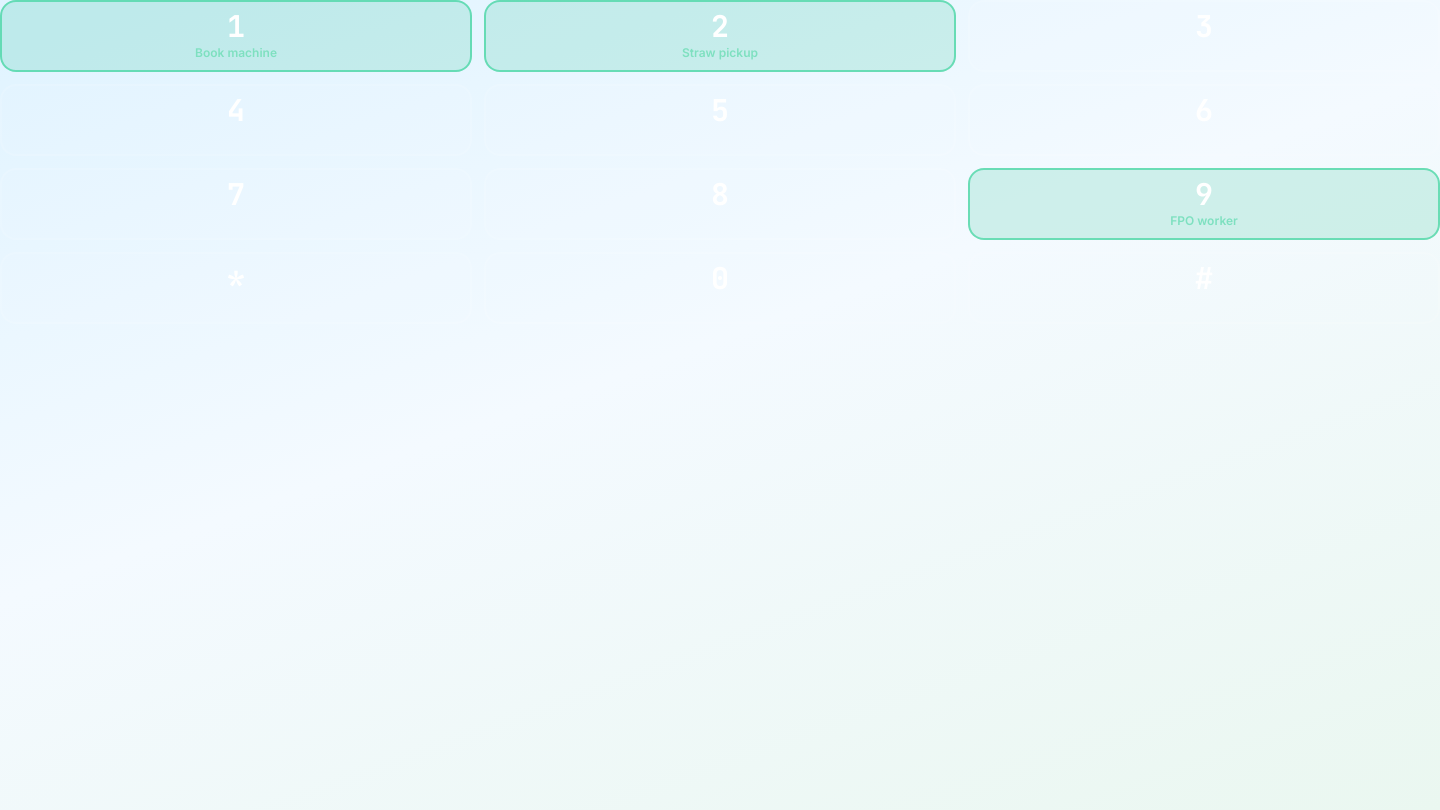
Test case: KeypadPanel flow › press 1 asks for confirmation; nothing is booked until 1 is pressed again
Step 1. Click the button with aria-label "Press 1: Lock Super Seeder" → (236,36), box left=0, top=0, right=472, bottom=72
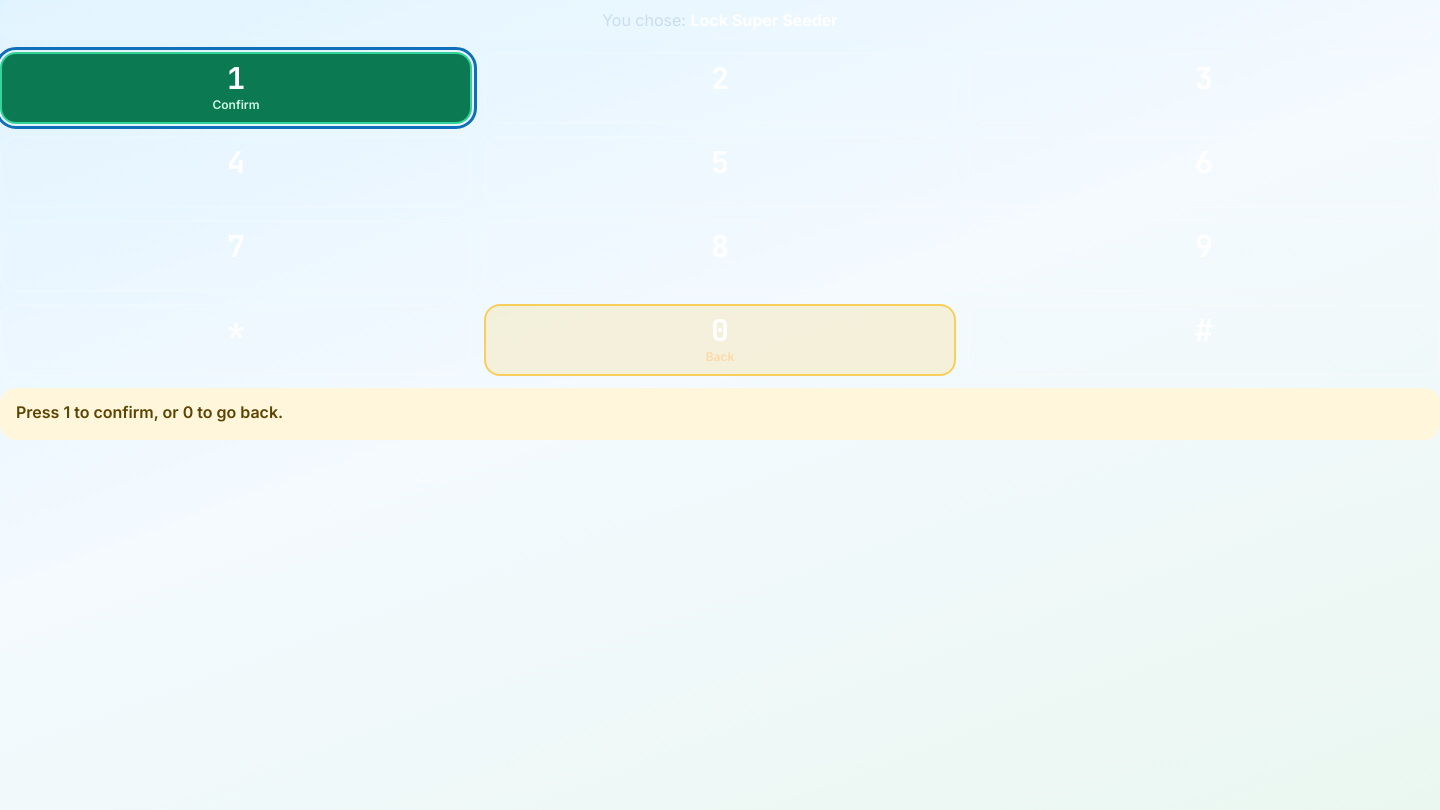
Check: the element with test id "confirm-step" reads "You chose: Lock Super Seeder", box left=0, top=0, right=1439, bottom=40
Check: the message with test id "keypad-status" reads "Press 1 to confirm, or 0 to go back.", box left=16, top=402, right=283, bottom=422
Step 2. Click the button with aria-label "Press 1: Yes, confirm" → (236,88), box left=0, top=52, right=472, bottom=124
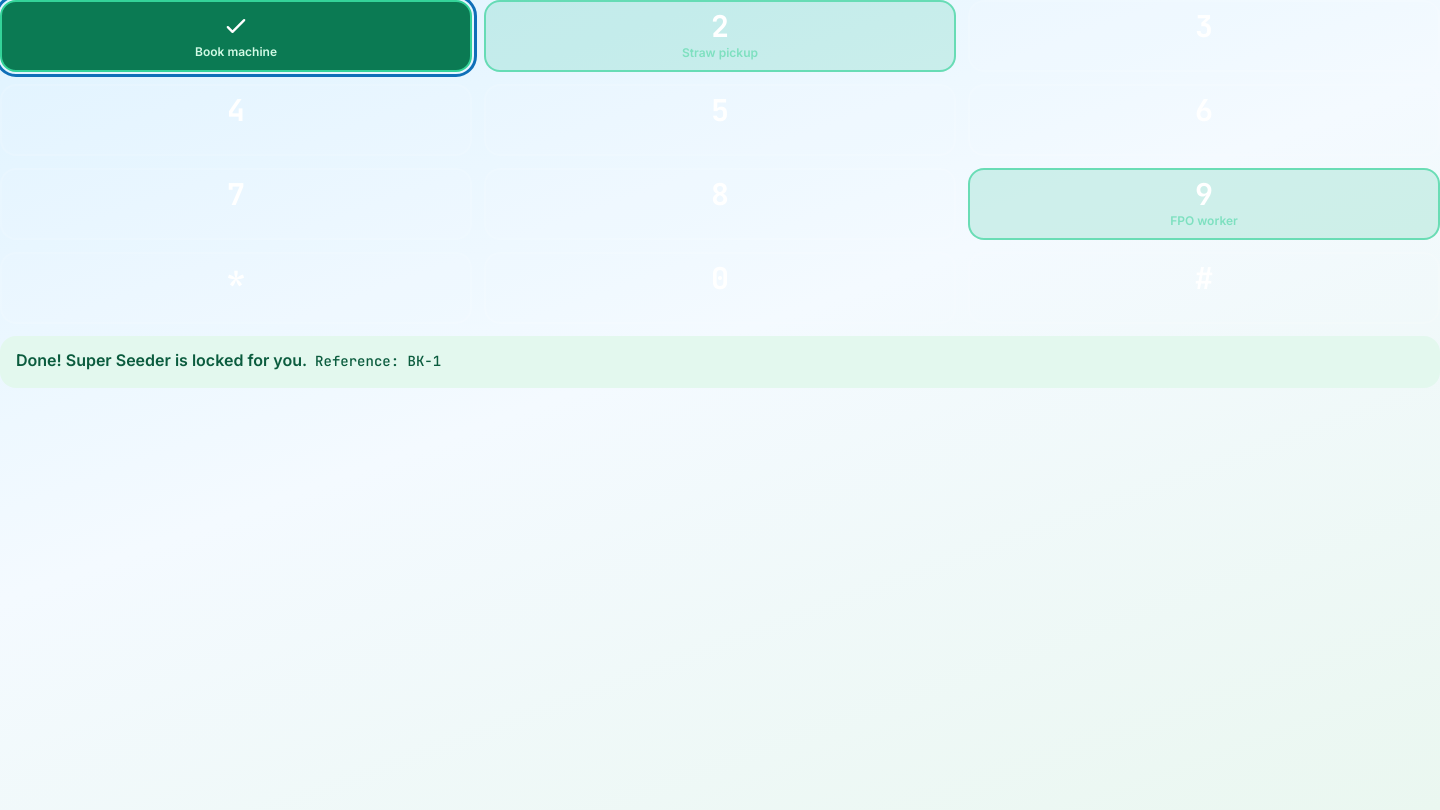
Check: the message with test id "keypad-status" shows "Done! Super Seeder is locked for you.", box left=16, top=350, right=307, bottom=370
Check: the message with test id "keypad-status" shows "BK-1", box left=408, top=352, right=441, bottom=370
